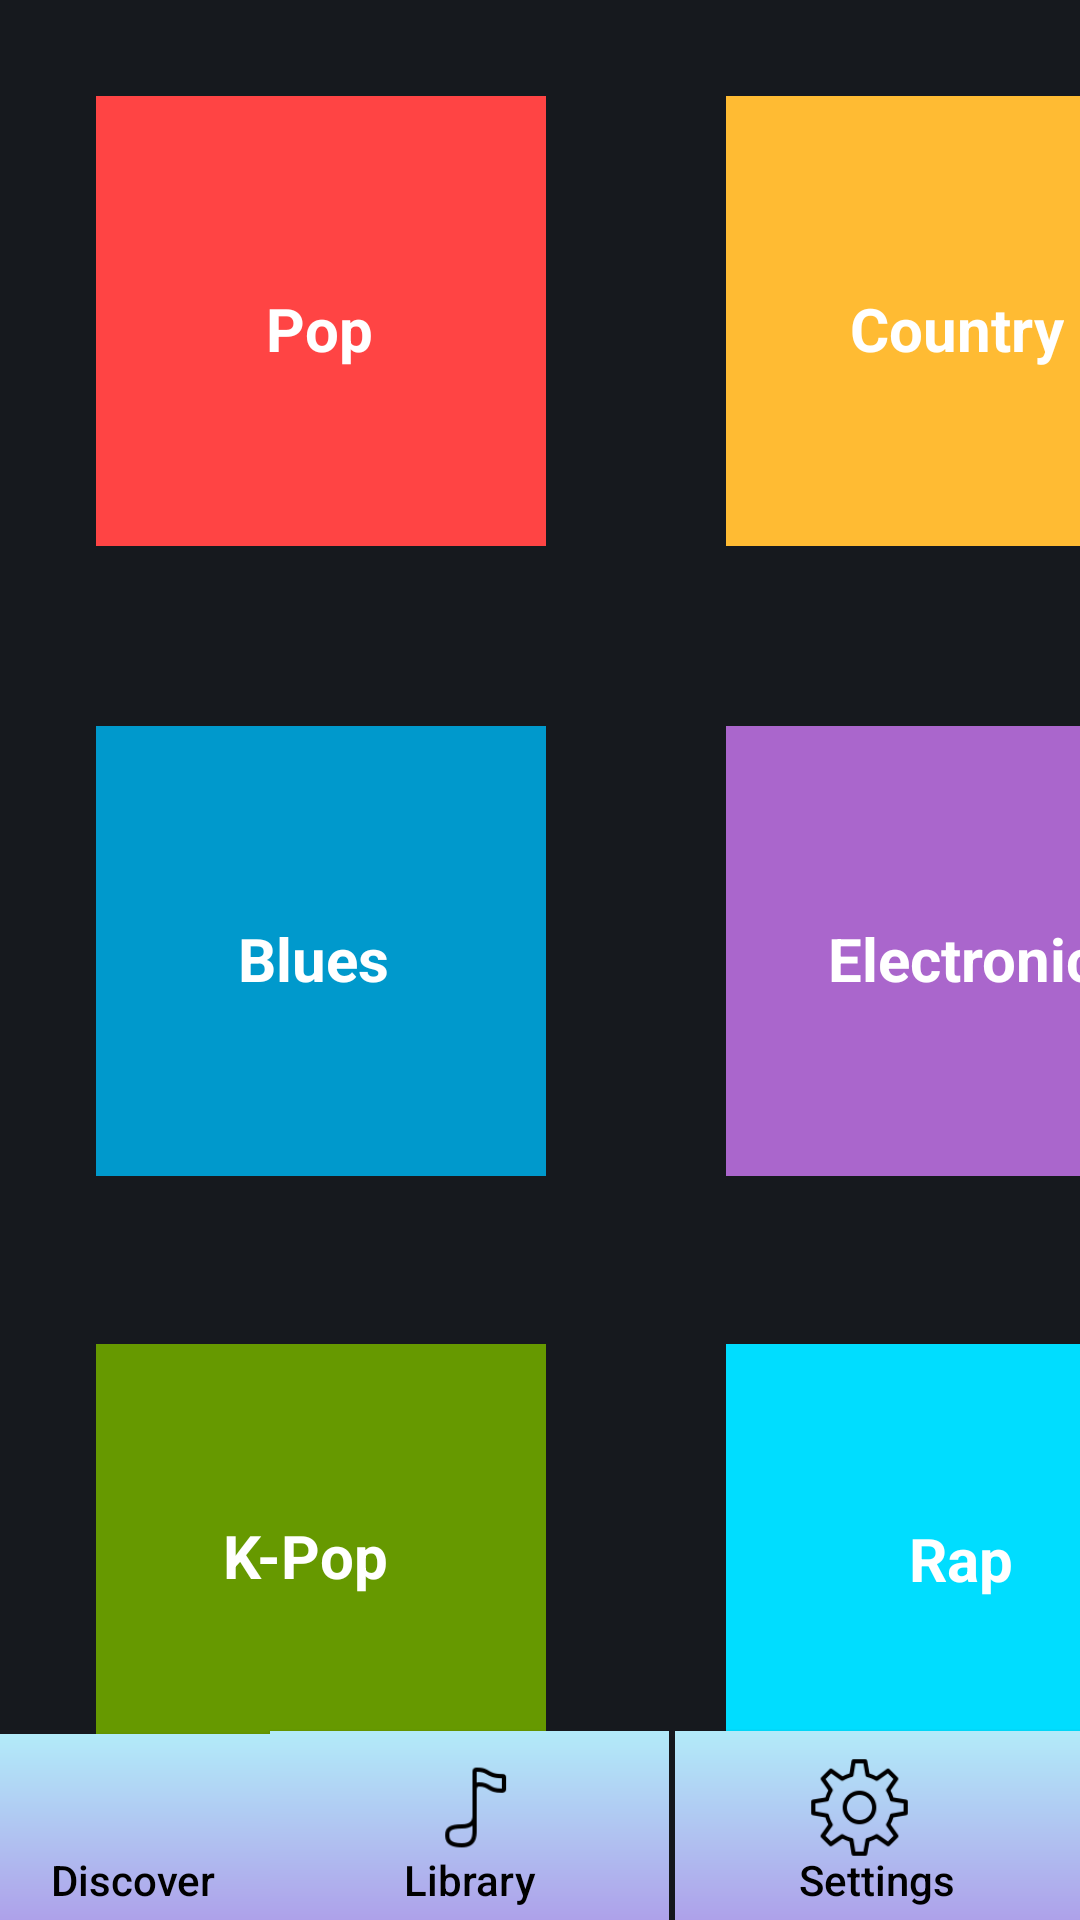

Icon click points for this 1080 × 1920 phone screenshot, format (x=x, y=y):
music: (x=472, y=1807)
